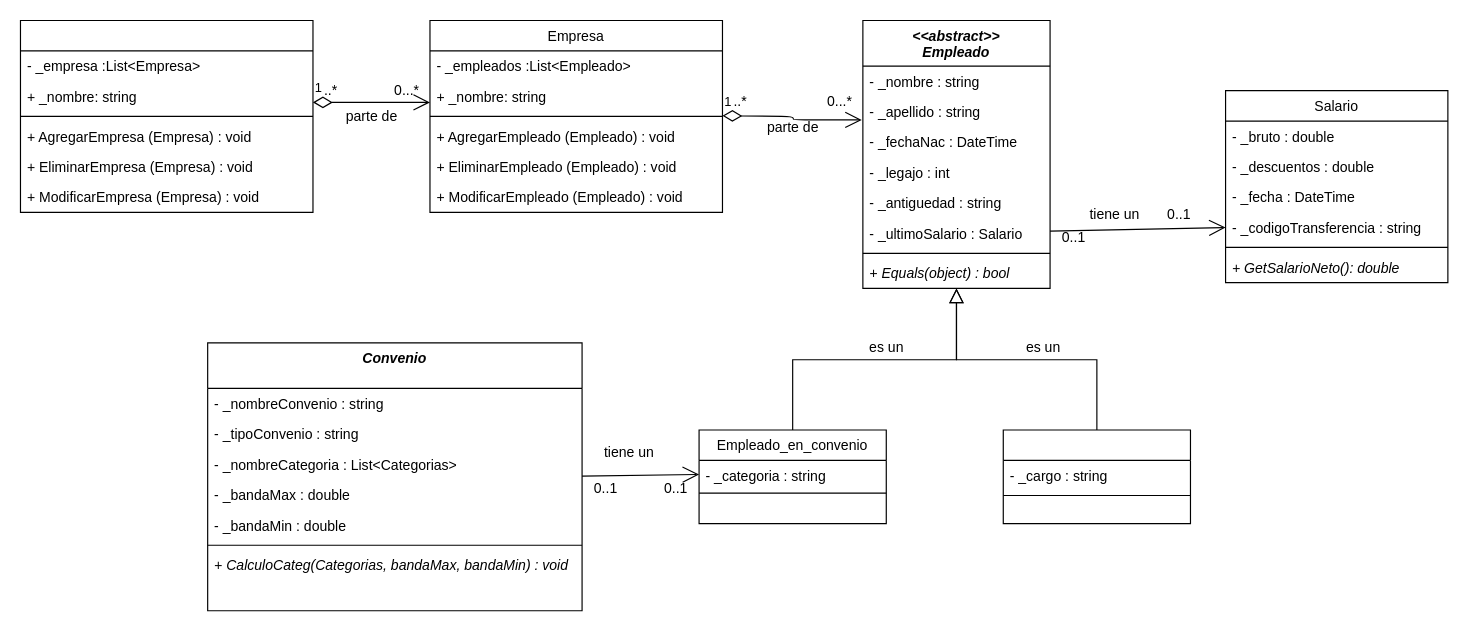
Some shapes in this 1468 by 632 pixel diagram are drawn without their labels. The box of each missing label's shape, as (x1, y1, x2, y2) in pixels:
Empleado_Fuera_convenio: (1002, 429, 1190, 524)
Estudio_contable: (19, 19, 313, 212)
